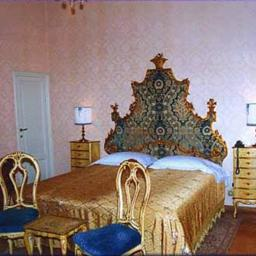Cama: (15, 143, 225, 241)
